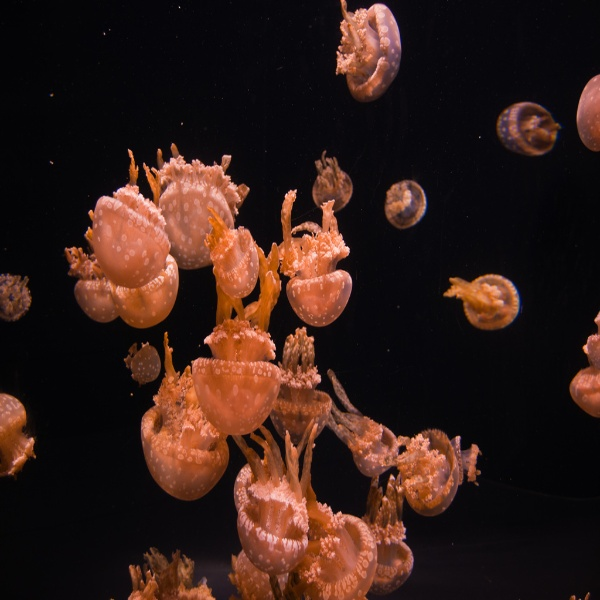Jellyfish: (67, 147, 480, 599), (333, 0, 401, 99), (444, 271, 521, 332), (493, 103, 556, 163), (0, 388, 35, 480), (567, 315, 599, 415), (383, 181, 427, 233), (577, 74, 599, 149), (0, 278, 31, 325)
